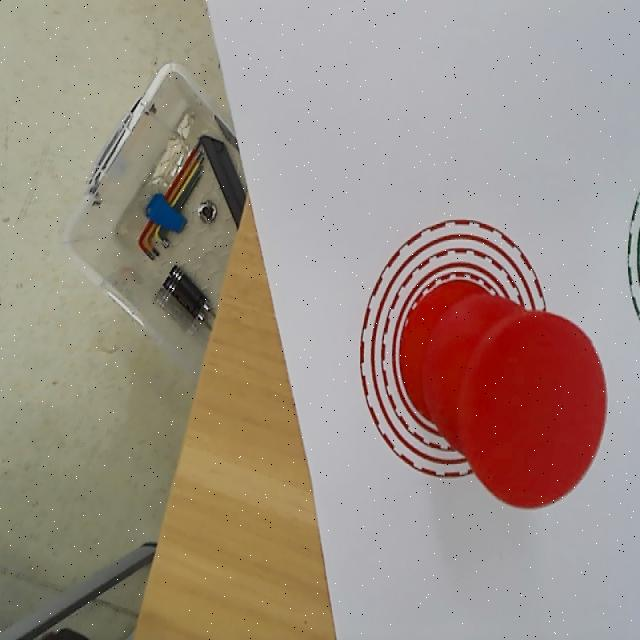r: (462, 312, 606, 508)
